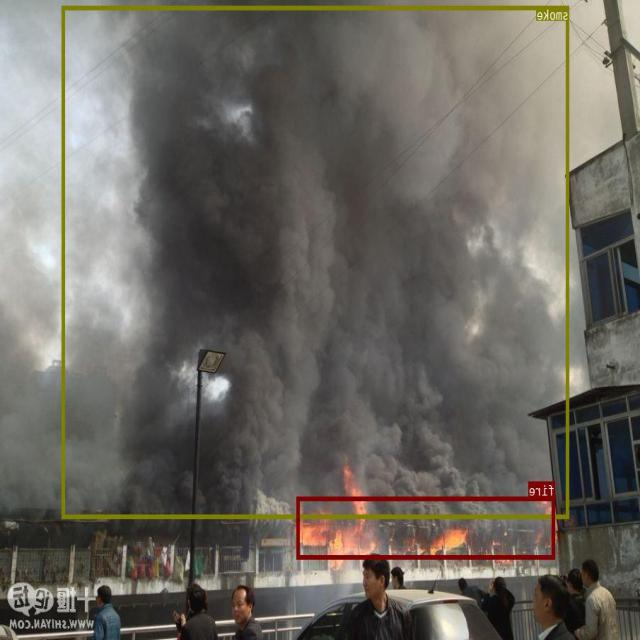fire: (298, 496, 556, 558)
smoke: (62, 5, 570, 518)
